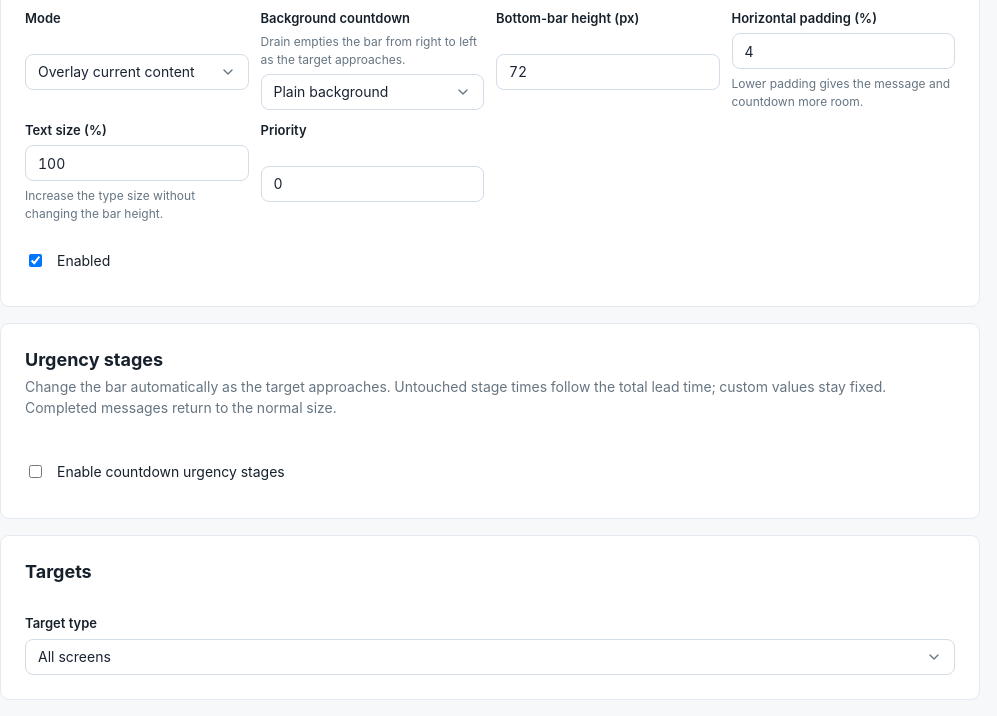
it: Plugins › counts the chosen targets and explains an empty scope
This screenshot has width=997, height=716.
(page scrolled)
What coordinates should you click on to do the following:
click the dropdown named "Target type"
I would click on:
 (74, 657)
Its box is [25,639,955,675].
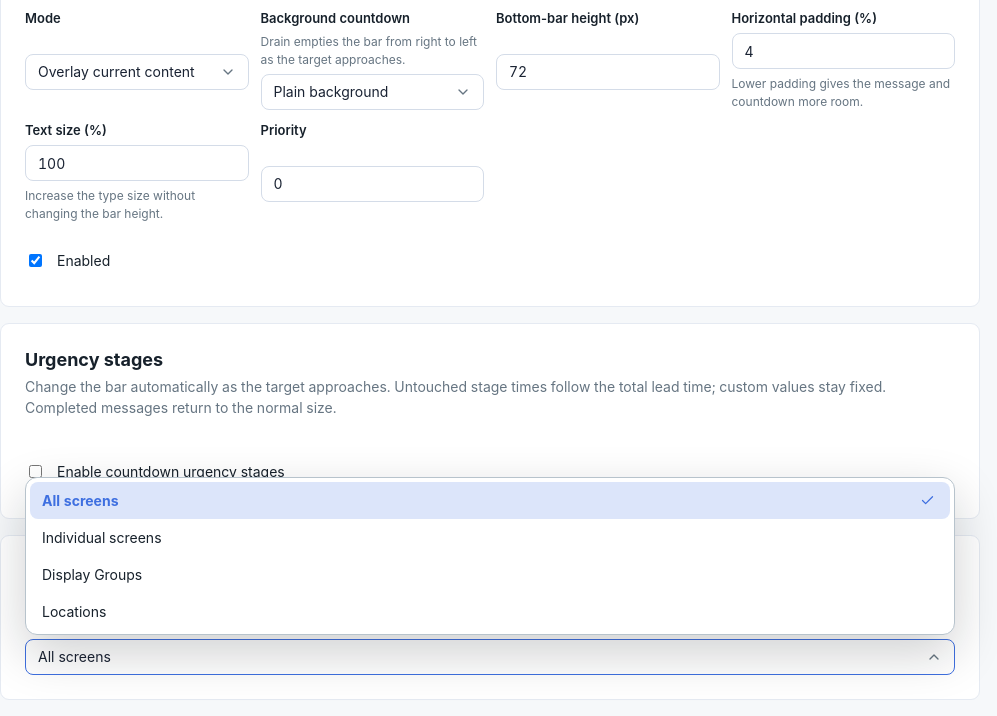
What coordinates should you click on to do the following:
click the option "Individual screens"
I would click on:
 (102, 537)
Its box is [30,519,950,556].
(page scrolled)
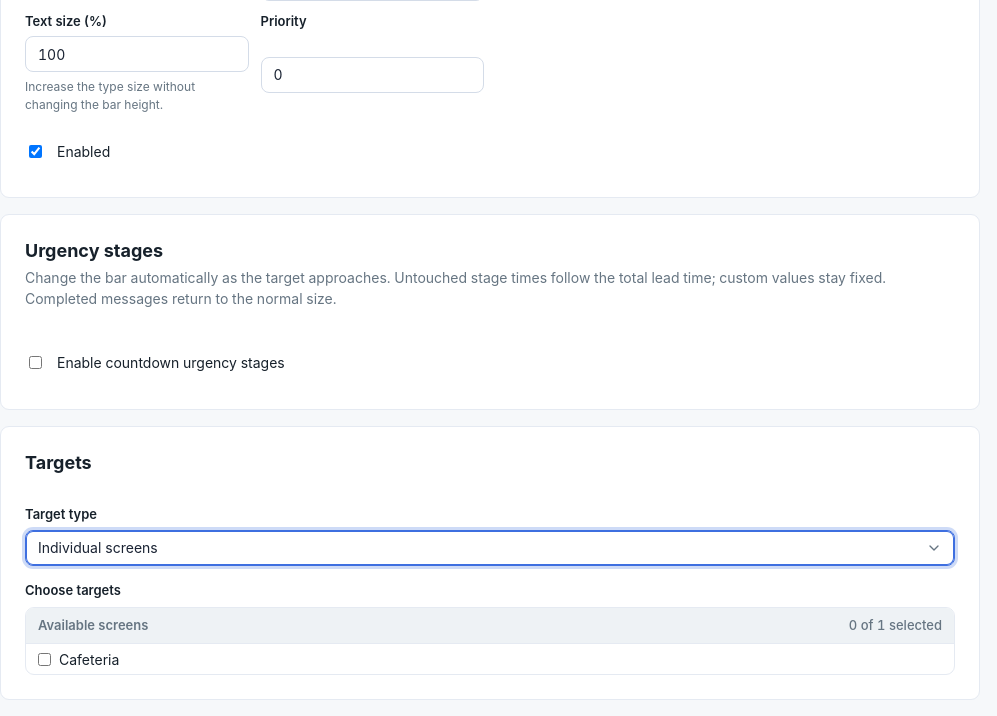
expect the text "0 of 1 selected" is shown: met, box [849,617,942,634]
What coordinates should you click on to do the following:
click the checkbox labelled "Cafeteria"
I would click on:
 (44, 659)
Its box is [38,653,51,666].
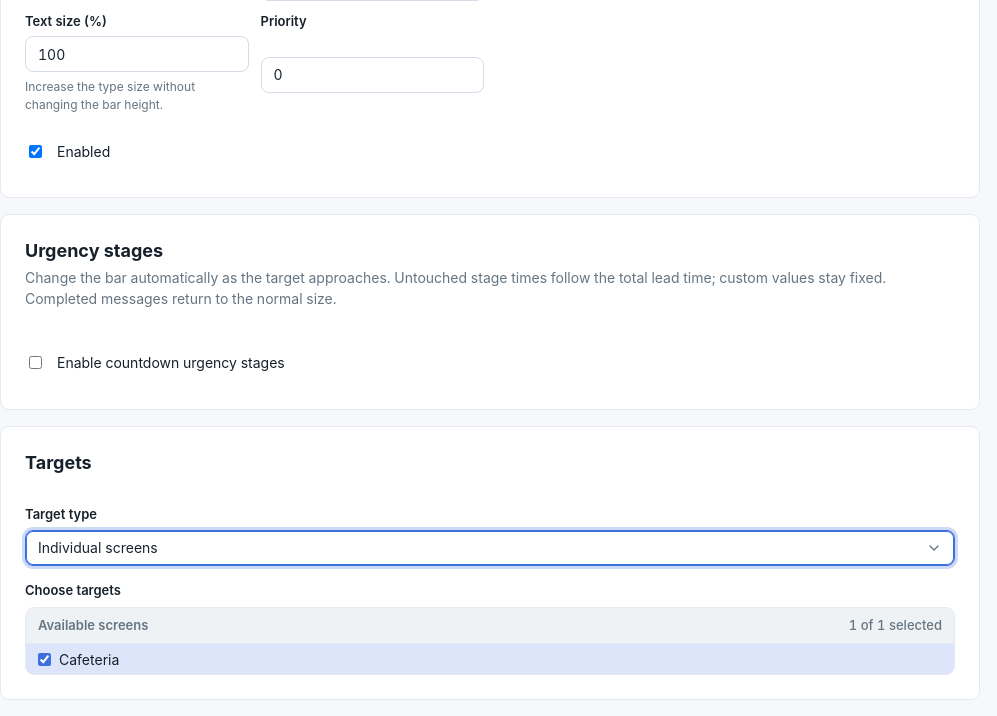
expect the text "1 of 1 selected" is shown: met, box [849,617,942,634]
What coordinates should you click on to do the following:
click the dropdown named "Target type"
I would click on:
 (98, 548)
Its box is [25,530,955,566].
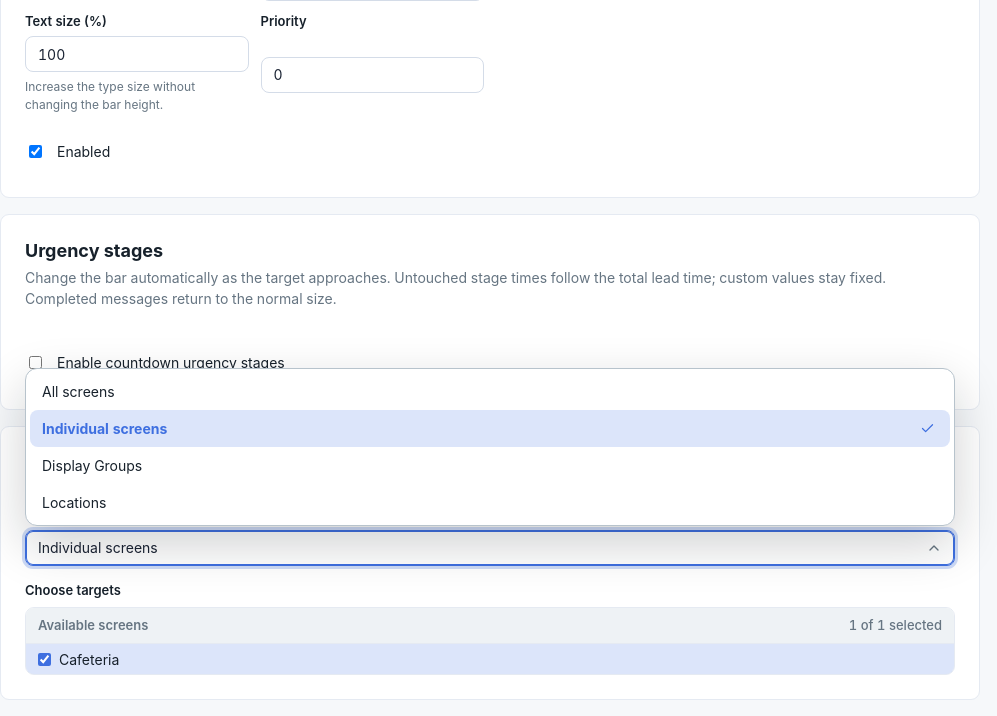
What coordinates should you click on to do the following:
click the option "Display Groups"
I would click on:
 (92, 465)
Its box is [30,447,950,484].
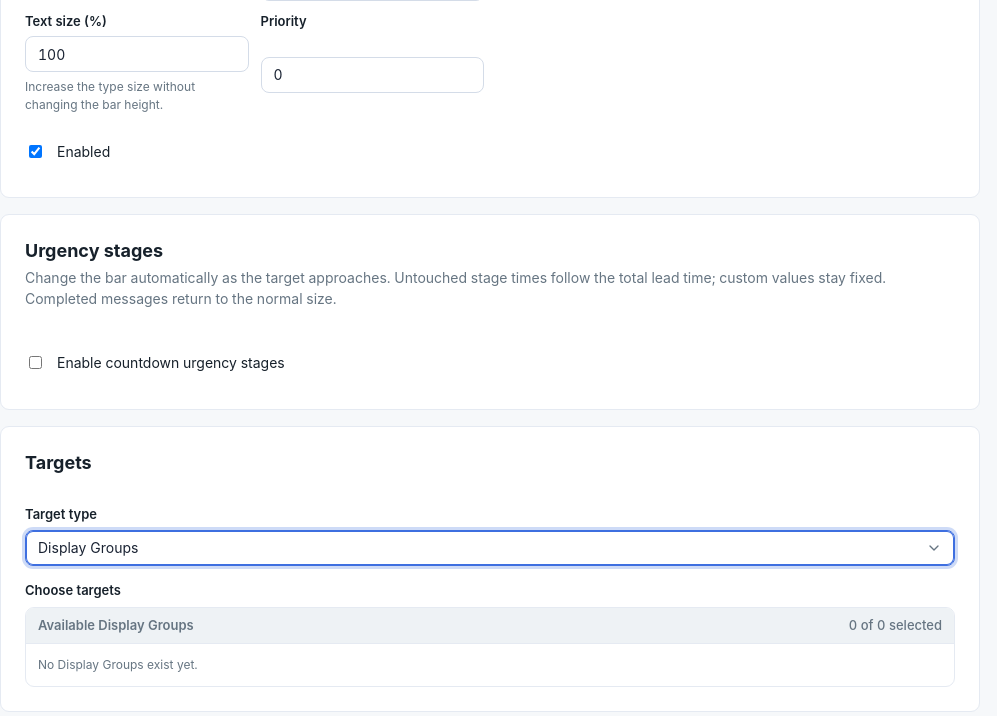
expect the text "No Display Groups exist yet." is shown: met, box [38,657,198,672]
expect the text "0 of 0 selected" is shown: met, box [849,617,942,634]
